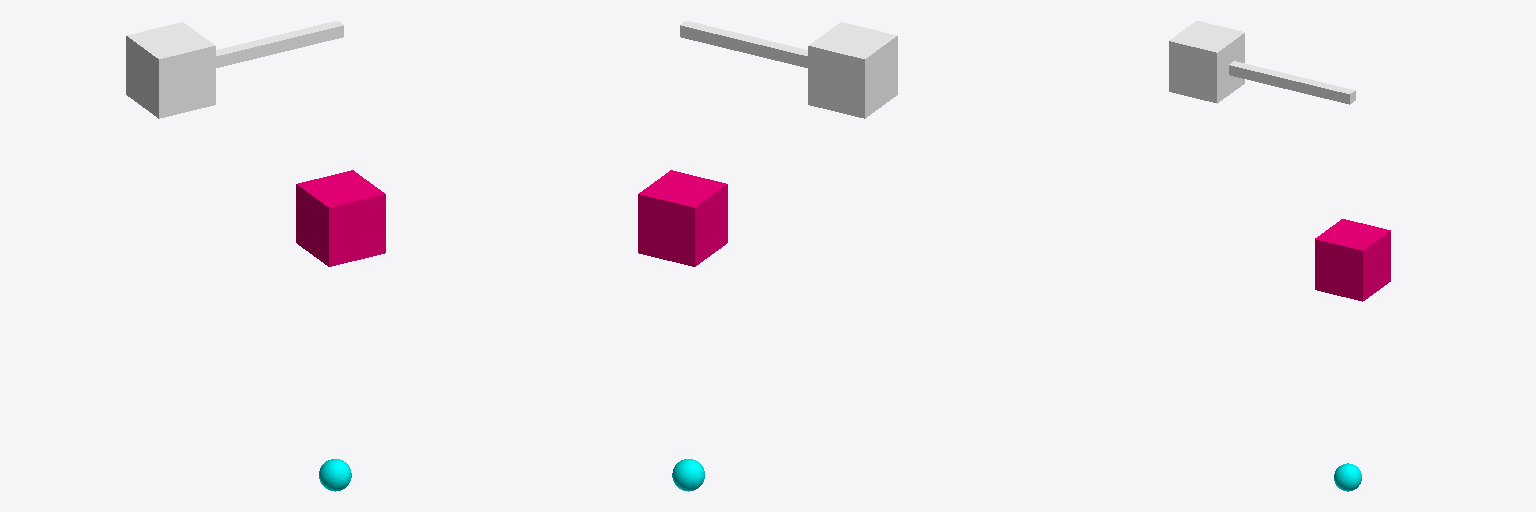
robot.urdf — pmrock:
<?xml version="1.0" ?>
<robot name="pmrock">
  <link name="foot_1">
    <visual name="foot_1_visual">
      <origin xyz="0 0 0" rpy="0 0 0"/>
      <geometry>
        <mesh filename="meshes/foot_1.stl"/>
      </geometry>
      <material name="foot_1-material">
        <color rgba="0 1 1 1"/>
      </material>
    </visual>
    <collision name="foot_1_collision">
      <origin xyz="0 0 0" rpy="0 0 0"/>
      <geometry>
        <mesh filename="meshes/foot_1.stl"/>
      </geometry>
    </collision>
    <inertial>
      <mass value="0.0014241887"/>
      <inertia ixx="1.4241887e-08" iyy="1.4241887e-08" izz="1.4241887e-08" ixy="0" ixz="0" iyz="0"/>
      <origin xyz="0 0 0" rpy="0 0 0"/>
    </inertial>
  </link>
  <link name="pendulum_1">
    <visual name="pendulum_1_visual">
      <origin xyz="0 0 0" rpy="0 0 0"/>
      <geometry>
        <mesh filename="meshes/pendulum_1.stl"/>
      </geometry>
      <material name="pendulum_1-material">
        <color rgba="1 1 1 1"/>
      </material>
    </visual>
    <collision name="pendulum_1_collision">
      <origin xyz="0 0 0" rpy="0 0 0"/>
      <geometry>
        <mesh filename="meshes/pendulum_1.stl"/>
      </geometry>
    </collision>
    <inertial>
      <mass value="0.0998712"/>
      <inertia ixx="6.0770112e-06" iyy="1.8067333e-05" izz="1.8067333e-05" ixy="0" ixz="0" iyz="0"/>
      <origin xyz="-0.056818182 0 -0.002" rpy="0 0 0"/>
    </inertial>
  </link>
  <link name="shell_com_1">
    <visual name="shell_com_1_visual">
      <origin xyz="0 0 0" rpy="0 0 0"/>
      <geometry>
        <mesh filename="meshes/shell_com_1.stl"/>
      </geometry>
      <material name="shell_com_1-material">
        <color rgba="1 0 0.5 1"/>
      </material>
    </visual>
    <collision name="shell_com_1_collision">
      <origin xyz="0 0 0" rpy="0 0 0"/>
      <geometry>
        <mesh filename="meshes/shell_com_1.stl"/>
      </geometry>
    </collision>
    <inertial>
      <mass value="0"/>
      <inertia ixx="0" iyy="0" izz="0" ixy="0" ixz="0" iyz="0"/>
      <origin xyz="-0.002 0 0.081" rpy="0 0 0"/>
    </inertial>
  </link>
  <joint name="Revolute_1" type="revolute">
    <origin xyz="0.002 0 0.148" rpy="3.1415927 0 0"/>
    <parent link="foot_1"/>
    <child link="pendulum_1"/>
    <axis xyz="0 0 -1"/>
    <limit effort="1" velocity="1" lower="-6.2831853" upper="6.2831853"/>
  </joint>
  <joint name="Fastened_1" type="fixed">
    <origin xyz="0.002 0 0.076" rpy="3.1415927 0 0"/>
    <parent link="foot_1"/>
    <child link="shell_com_1"/>
  </joint>
</robot>

--- What the picture shows (computed from the rendered views, not written in the file) ---
3 views of the same robot in one strip: view 1: azimuth 30°, elevation 25°; view 2: azimuth 150°, elevation 25°; view 3: azimuth 330°, elevation 25° (orthographic).
Model pmrock with 3 links and 2 joints (1 revolute, 1 fixed), rooted at foot_1, posed every joint at zero.
Links seen in each view (by area): view 1: pendulum_1, shell_com_1, foot_1; view 2: pendulum_1, shell_com_1, foot_1; view 3: pendulum_1, shell_com_1, foot_1.
Boxes of the visible links, x1=… form: pendulum_1: x1=126, y1=21, x2=343, y2=118; shell_com_1: x1=296, y1=170, x2=385, y2=266; foot_1: x1=319, y1=459, x2=351, y2=491; pendulum_1: x1=680, y1=21, x2=897, y2=118; shell_com_1: x1=638, y1=170, x2=727, y2=266; foot_1: x1=672, y1=459, x2=704, y2=491; pendulum_1: x1=1169, y1=21, x2=1355, y2=104; shell_com_1: x1=1315, y1=219, x2=1390, y2=301; foot_1: x1=1334, y1=463, x2=1361, y2=491.
Size in the robot's own frame: 0.08 by 0.02 by 0.165 metres.
3 mesh visuals loaded from 3 distinct referenced files (3 binary STL).
